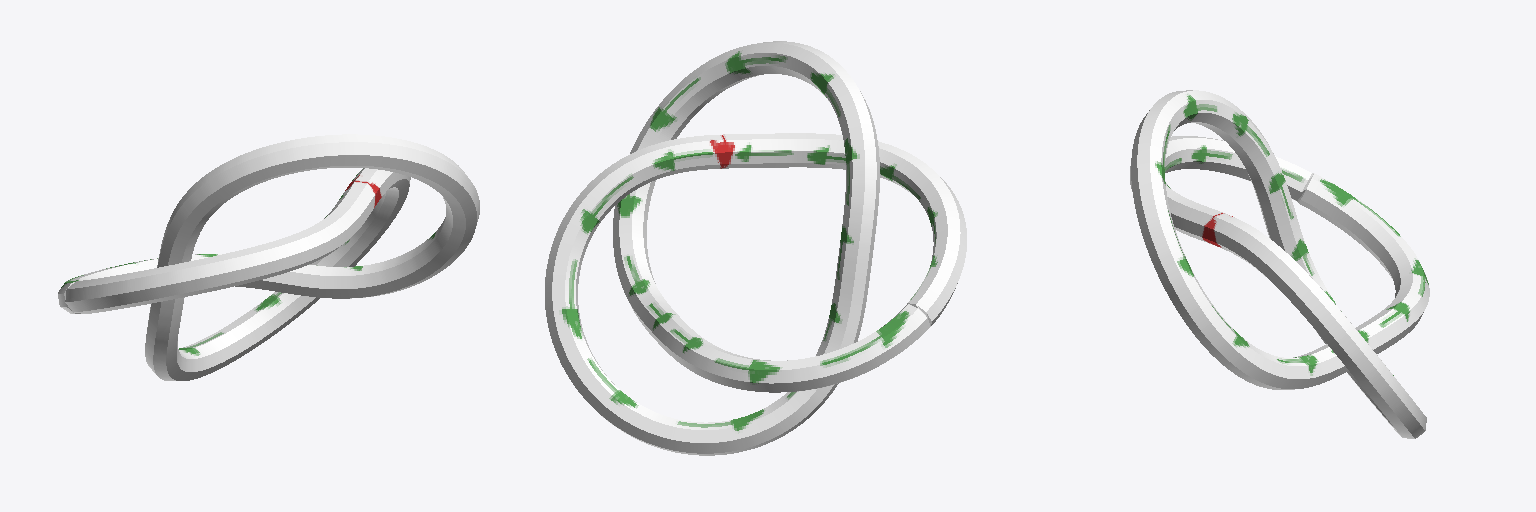
3 renders of one model, left to right at view 1: azimuth 30°, elevation 25°; view 2: azimuth 150°, elevation 25°; view 3: azimuth 270°, elevation 25°, orthographic.
Visible parts, largest first — view 1: Torus_Knot_2_x_3.001; view 2: Torus_Knot_2_x_3.001; view 3: Torus_Knot_2_x_3.001.
Boxes of the visible parts, x1,y1,x2,y2 form: Torus_Knot_2_x_3.001: [58, 134, 479, 380]; Torus_Knot_2_x_3.001: [545, 41, 966, 455]; Torus_Knot_2_x_3.001: [1130, 90, 1429, 438].
Bounding box in the file's own units: 1.7 × 1.43 × 1.23.
1 materials, 1 textured.